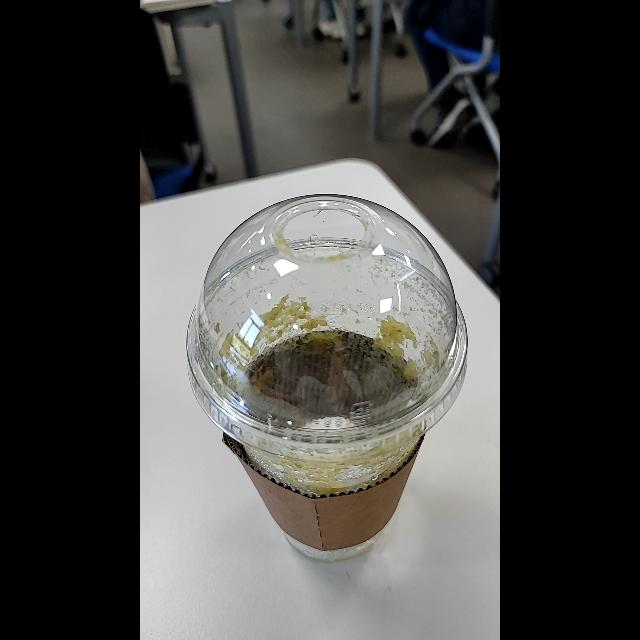plastic_cup: (181, 191, 467, 564)
plastic_cup_lid: (180, 192, 468, 460)
